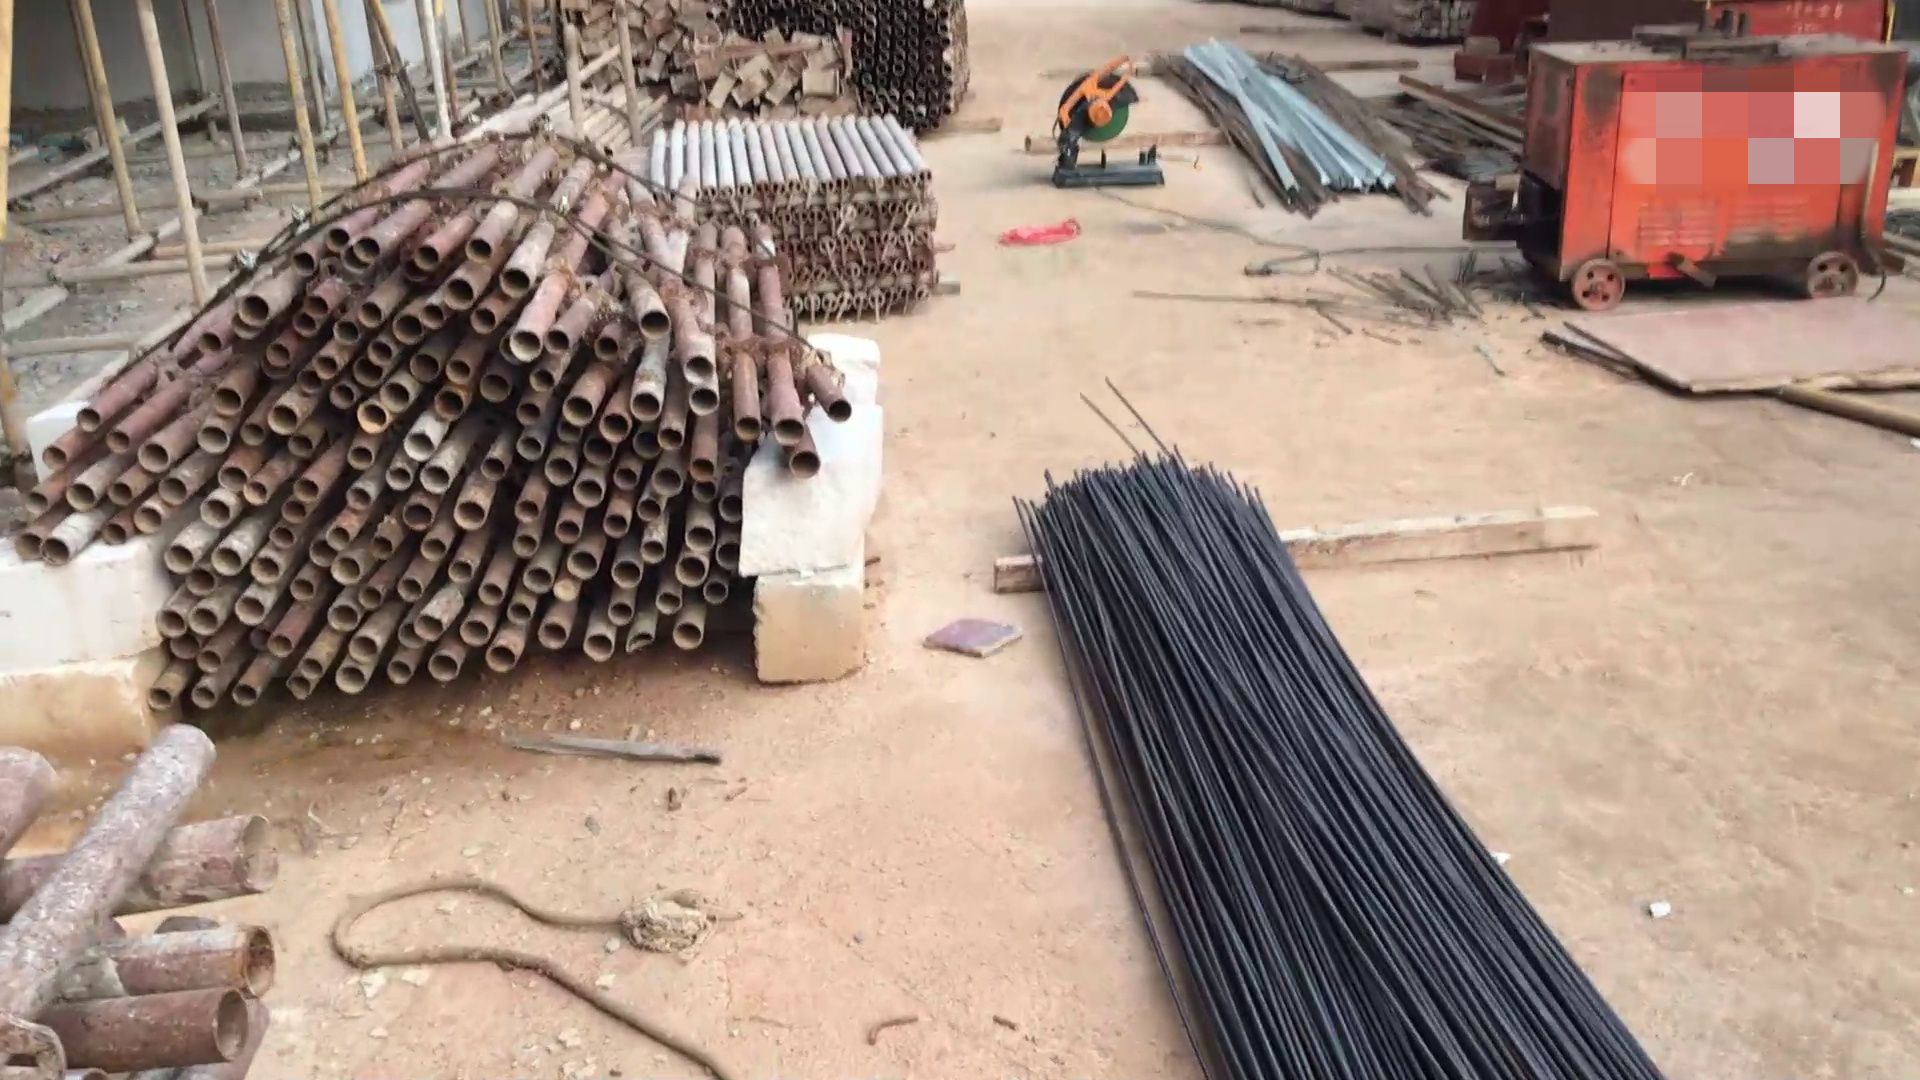cutter: (1044, 50, 1171, 191)
rebar: (992, 436, 1685, 1080)
scaffold: (11, 131, 860, 709), (1, 713, 298, 1068), (622, 108, 945, 316), (713, 7, 975, 117)
